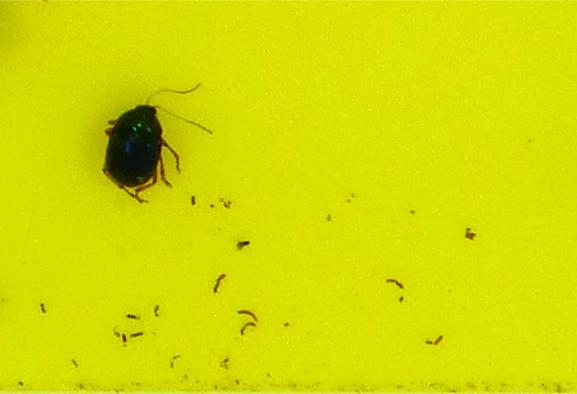Brachycera: (234, 238, 251, 252)
Coleoptera: (100, 100, 182, 204)
